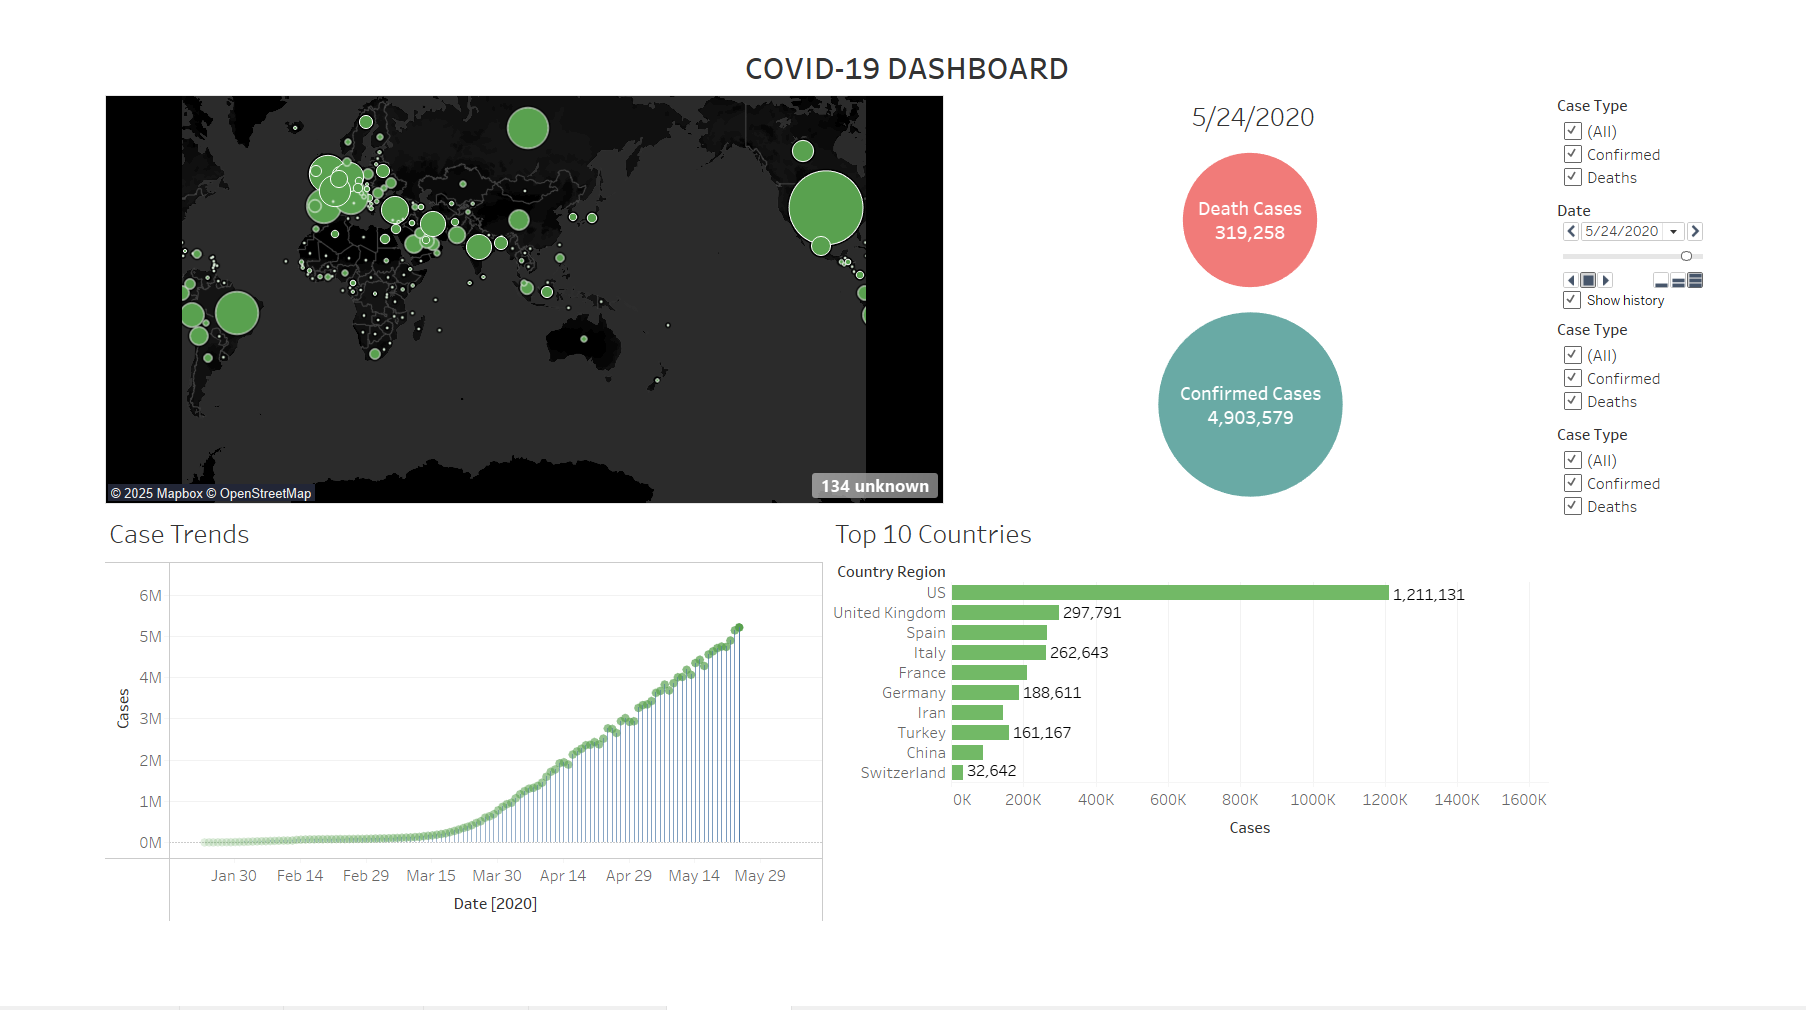

Layout of this report page (visuals, bound fields, positions):
{"tool":"tableau","page":{"name":"Dashboard 1","canvas":[1628,900],"ordinal":0},"visuals":[{"type":"title","box":[8,8,1612,49]},{"type":"worksheet","title":"Overall cases for each country","mark":"Automatic","box":[8,57,847,417.5]},{"type":"worksheet","title":"Death Cases","mark":"Pie","box":[855,57,605,208.7]},{"type":"filter","title":"Case Trends","param":"[federated.1remsiv0v6x75g17y0bqm0for04f].[none:Case_Type:nk]","box":[1460,57,160,105]},{"type":"currpage","title":"Case Trends","box":[1460,162,160,119]},{"type":"worksheet","title":"Confirmed Cases","mark":"Pie","box":[855,265.7,605,208.8]},{"type":"filter","title":"Overall cases for each country","param":"[federated.1remsiv0v6x75g17y0bqm0for04f].[none:Case_Type:nk]","box":[1460,281,160,105]},{"type":"filter","title":"Top 10 Countries","param":"[federated.1remsiv0v6x75g17y0bqm0for04f].[none:Case_Type:nk]","box":[1460,386,160,105]},{"type":"worksheet","title":"Case Trends","mark":"Automatic","rows":["Cases","Cases"],"cols":["Date"],"box":[8,474.5,725.9,417.5]},{"type":"worksheet","title":"Top 10 Countries","mark":"Automatic","rows":["Country_Region"],"cols":["Cases"],"box":[733.9,474.5,726.1,417.5]}]}

Visuals, with their boxes in screenshot pixels (x1, y1, x2, y2), scaled from the page's 1628x900 canvas onto the 1806x1010 screenshot:
title: bbox(9, 9, 1797, 64)
"Overall cases for each country" worksheet: bbox(9, 64, 948, 532)
"Death Cases" worksheet (Pie marks): bbox(948, 64, 1620, 298)
"Case Trends" filter: bbox(1620, 64, 1797, 182)
"Case Trends" currpage: bbox(1620, 182, 1797, 315)
"Confirmed Cases" worksheet (Pie marks): bbox(948, 298, 1620, 532)
"Overall cases for each country" filter: bbox(1620, 315, 1797, 433)
"Top 10 Countries" filter: bbox(1620, 433, 1797, 551)
"Case Trends" worksheet: bbox(9, 532, 814, 1001)
"Top 10 Countries" worksheet: bbox(814, 532, 1620, 1001)
